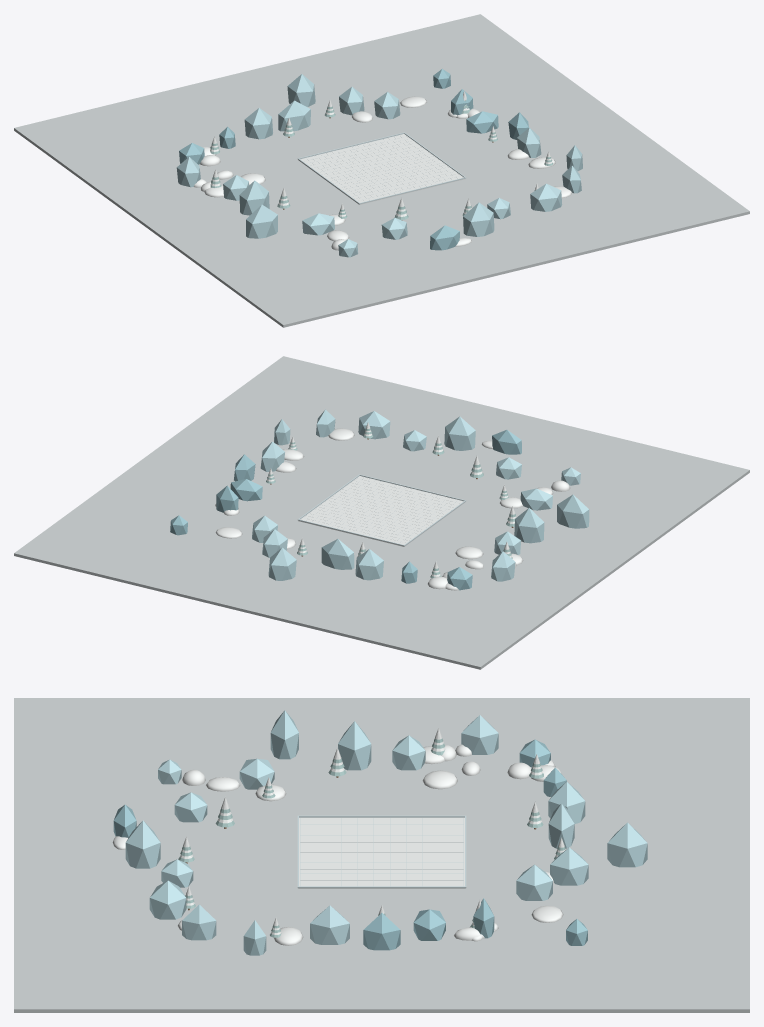
The model's file is landscape-tundra.glb.
The picture shows the model from 3 angles, top to bottom: view 1: azimuth 30°, elevation 25°; view 2: azimuth 150°, elevation 25°; view 3: azimuth 270°, elevation 25°; orthographic projection. The views are drawn at different scales.
Parts seen in each view (by area): view 1: Surrounding terrain.002, Playing clearing.002, Ice formation.015, Ice formation.020, Ice formation.008, Ice formation.014, Ice formation.022, Ice formation.009, Ice formation.007, Ice formation.002, Ice formation.016, Ice formation.019 (+4 smaller); view 2: Surrounding terrain.002, Playing clearing.002, Ice formation.015, Ice formation.020, Ice formation.014, Ice formation.008, Ice formation.007, Ice formation.009, Ice formation.022, Ice formation.019, Ice formation.016, Ice formation.012 (+2 smaller); view 3: Surrounding terrain.002, Playing clearing.002, Ice formation.007, Ice formation.020, Ice formation.014, Ice formation, Ice formation.022, Ice formation.006, Ice formation.015, Ice formation.012, Ice formation.001, Ice formation.005 (+13 smaller).
Boxes of the visible parts, box(x1,y1,x2,y2) form: Surrounding terrain.002: box(14, 14, 749, 327); Playing clearing.002: box(298, 134, 465, 204); Ice formation.015: box(246, 204, 277, 238); Ice formation.020: box(463, 202, 494, 236); Ice formation.008: box(278, 100, 310, 131); Ice formation.014: box(239, 180, 269, 215); Ice formation.022: box(530, 183, 562, 211); Ice formation.009: box(244, 108, 272, 139); Ice formation.007: box(287, 74, 315, 106); Ice formation.002: box(466, 111, 498, 133); Ice formation.016: box(302, 213, 334, 235); Ice formation.019: box(430, 225, 459, 250); Surrounding terrain.002: box(14, 356, 749, 669); Playing clearing.002: box(298, 476, 465, 546); Ice formation.015: box(557, 494, 589, 528); Ice formation.020: box(444, 416, 475, 450); Ice formation.014: box(514, 508, 544, 543); Ice formation.008: box(321, 539, 354, 569); Ice formation.007: box(268, 547, 296, 580); Ice formation.009: box(355, 549, 383, 580); Ice formation.022: box(358, 411, 390, 439); Ice formation.019: box(492, 430, 521, 454); Ice formation.016: box(520, 488, 552, 510); Ice formation.012: box(491, 551, 515, 581); Surrounding terrain.002: box(14, 698, 749, 1012); Playing clearing.002: box(298, 817, 465, 888); Ice formation.007: box(607, 822, 647, 867); Ice formation.020: box(125, 820, 160, 868); Ice formation.014: box(338, 721, 371, 770); Ice formation: box(310, 905, 349, 944); Ice formation.022: box(149, 880, 186, 919); Ice formation.006: box(550, 847, 588, 885); Ice formation.015: box(270, 710, 298, 759); Ice formation.012: box(461, 715, 498, 754); Ice formation.001: box(363, 913, 400, 950); Ice formation.005: box(516, 864, 552, 900).
Bounding box in the file's own units: 90 × 9.82 × 90.
